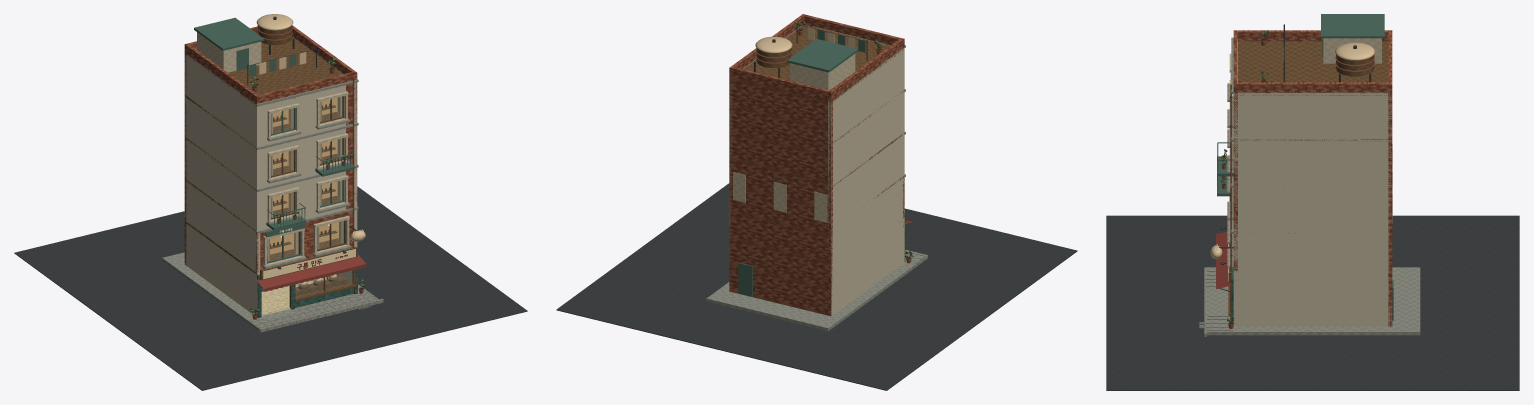
File: cloud-dumpling.glb
3 views of the same model, side by side, from view 1: azimuth 30°, elevation 25°; view 2: azimuth 150°, elevation 25°; view 3: azimuth 270°, elevation 25° (orthographic). The views are drawn at different scales.
Visible parts, largest first — view 1: Street asphalt, Architecture warm-plaster, Architecture brick, Glass glass, Architecture wood, Windows plaster, Street stone, Architecture jade-paint, Interiors wood, Interiors room-wall, Windows jade-paint, Shop oxblood (+12 smaller); view 2: Street asphalt, Architecture brick, Architecture warm-plaster, Street stone, Architecture plaster, Architecture wood, Architecture jade-paint, Props canvas, Props wood; view 3: Street asphalt, Architecture warm-plaster, Architecture brick, Street stone, Architecture wood, Architecture jade-paint, Architecture plaster, Windows plaster, Props copper, Shop oxblood, Props canvas, Props wood (+2 smaller).
Part boxes in pixels (<box>): Street asphalt: <box>14,186,527,390</box>; Architecture warm-plaster: <box>184,37,357,313</box>; Architecture brick: <box>184,25,357,272</box>; Glass glass: <box>267,97,352,297</box>; Architecture wood: <box>184,37,343,274</box>; Windows plaster: <box>263,91,349,266</box>; Street stone: <box>162,252,383,332</box>; Architecture jade-paint: <box>194,17,296,76</box>; Interiors wood: <box>267,105,348,296</box>; Interiors room-wall: <box>267,97,338,255</box>; Windows jade-paint: <box>266,108,355,263</box>; Shop oxblood: <box>256,255,366,291</box>; Street asphalt: <box>556,183,1077,390</box>; Architecture brick: <box>729,14,904,316</box>; Architecture warm-plaster: <box>729,25,904,315</box>; Street stone: <box>706,249,927,331</box>; Architecture plaster: <box>733,54,855,222</box>; Architecture wood: <box>732,25,904,270</box>; Architecture jade-paint: <box>738,30,865,296</box>; Props canvas: <box>755,36,792,53</box>; Props wood: <box>756,48,791,67</box>; Street asphalt: <box>1106,215,1519,390</box>; Architecture warm-plaster: <box>1233,41,1392,326</box>; Architecture brick: <box>1233,30,1392,326</box>; Street stone: <box>1204,267,1420,336</box>; Architecture wood: <box>1235,41,1391,233</box>; Architecture jade-paint: <box>1321,14,1393,320</box>; Architecture plaster: <box>1323,38,1392,223</box>; Windows plaster: <box>1229,53,1233,266</box>; Props copper: <box>1230,56,1374,322</box>; Shop oxblood: <box>1216,231,1232,289</box>; Props canvas: <box>1335,42,1375,60</box>; Props wood: <box>1336,54,1374,76</box>.
Size of the model in its own units: 26 by 18.74 by 26.
Materials: 25 (7 with a texture image).
